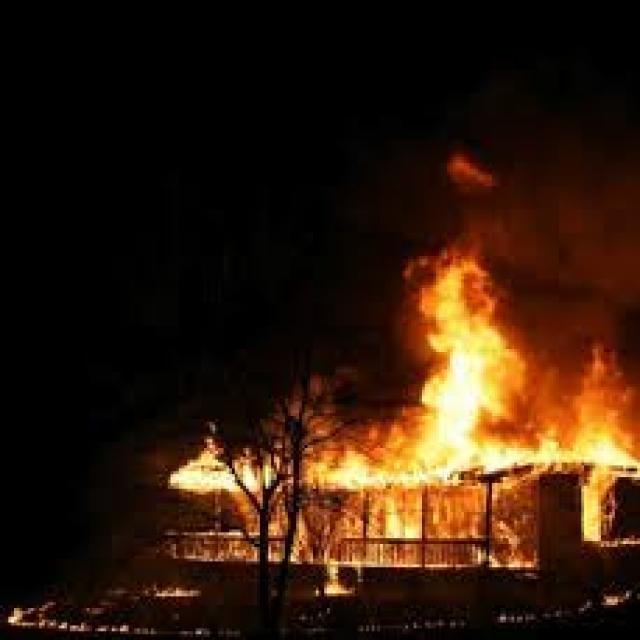Fire: (169, 245, 640, 494)
